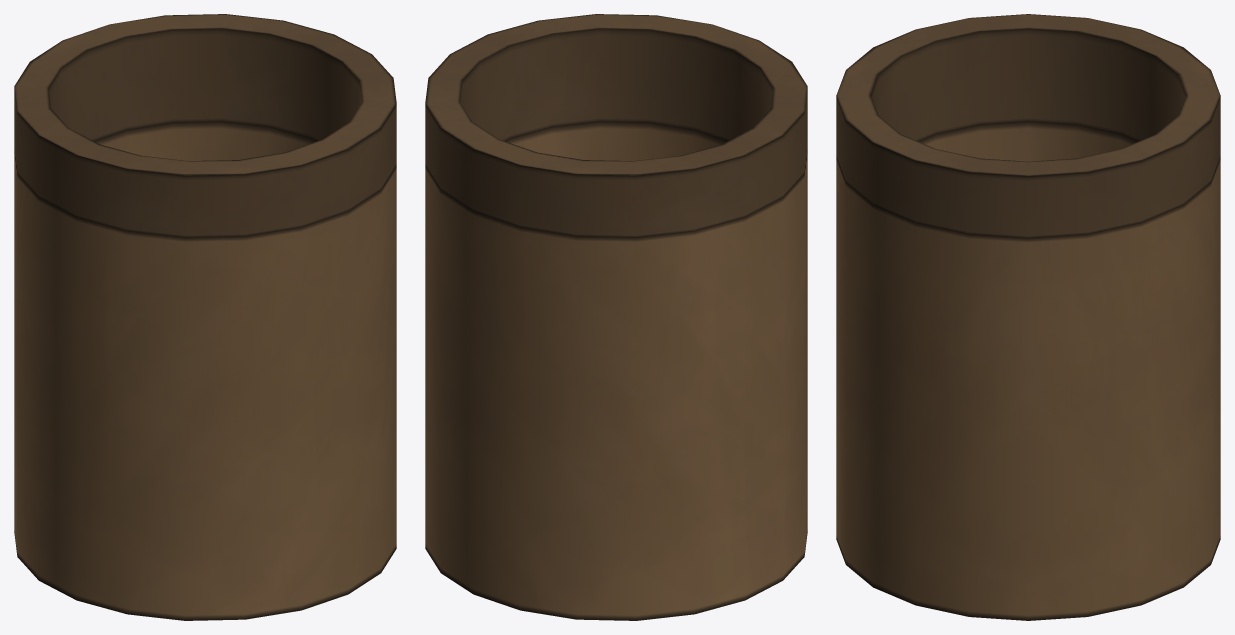
The model's file is trashCan.fbx.
3 renders of one model, left to right at view 1: azimuth 30°, elevation 25°; view 2: azimuth 150°, elevation 25°; view 3: azimuth 270°, elevation 25°, orthographic.
Parts seen in each view (by area): view 1: polySurface1085; view 2: polySurface1085; view 3: polySurface1085.
Boxes of the visible parts, <box> form: polySurface1085: <box>14,14,396,620</box>; polySurface1085: <box>425,14,807,620</box>; polySurface1085: <box>836,14,1220,620</box>.
Bounding box in the file's own units: 0.3075 × 0.3929 × 0.3075.
